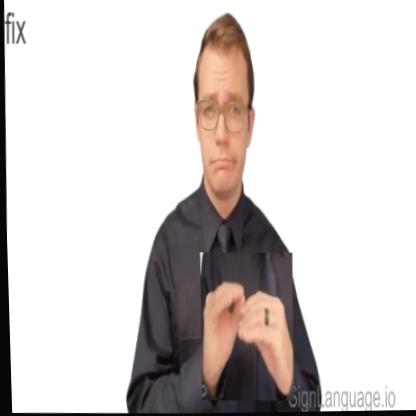Fix: (195, 252, 294, 402)
